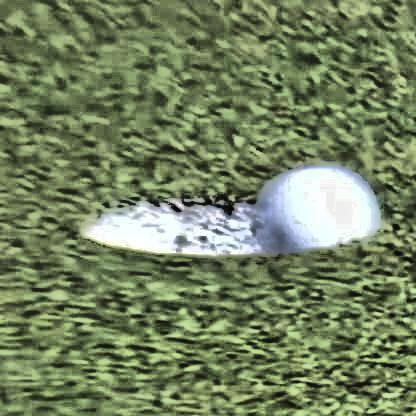golfball: (251, 177, 377, 268)
